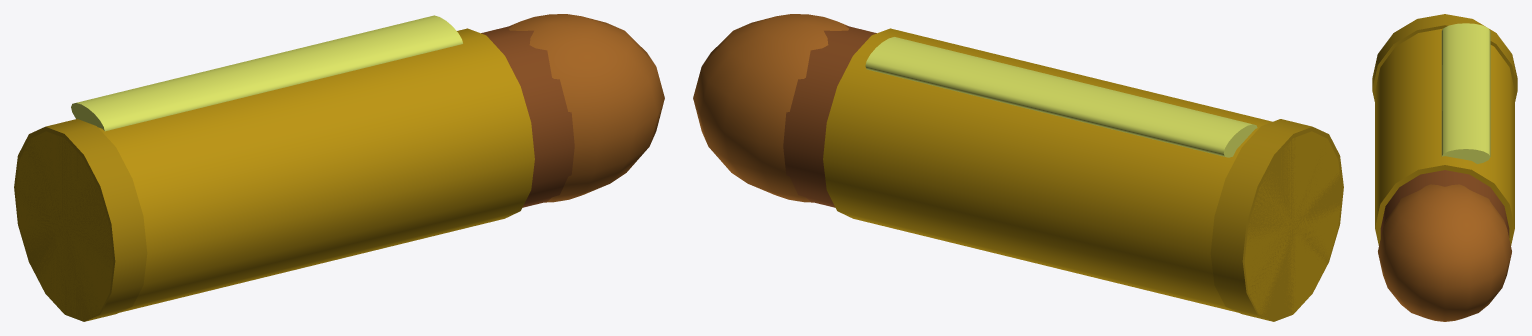
The model's file is CMU3DCartridge9mmCloud.glb.
3 renders of one model, left to right at view 1: azimuth 30°, elevation 25°; view 2: azimuth 150°, elevation 25°; view 3: azimuth 270°, elevation 25°, orthographic. The views are drawn at different scales.
Visible parts, largest first — view 1: rounded brass case, case rim, copper forward rounded cap, brass upper glint, copper neck; view 2: rounded brass case, copper forward rounded cap, brass upper glint, case rim, copper neck; view 3: rounded brass case, copper forward rounded cap, brass upper glint, case rim, copper neck.
Part boxes in pixels (left/top/right/bottom): rounded brass case: left=16, top=28, right=534, bottom=321; case rim: left=14, top=119, right=147, bottom=321; copper forward rounded cap: left=509, top=14, right=664, bottom=202; brass upper glint: left=71, top=15, right=462, bottom=131; copper neck: left=481, top=25, right=574, bottom=207; rounded brass case: left=823, top=28, right=1340, bottom=315; copper forward rounded cap: left=693, top=14, right=848, bottom=202; brass upper glint: left=865, top=37, right=1257, bottom=157; case rim: left=1210, top=119, right=1343, bottom=321; copper neck: left=783, top=25, right=876, bottom=207; rounded brass case: left=1375, top=28, right=1514, bottom=245; copper forward rounded cap: left=1378, top=184, right=1511, bottom=321; brass upper glint: left=1441, top=23, right=1490, bottom=163; case rim: left=1372, top=14, right=1517, bottom=101; copper neck: left=1380, top=170, right=1509, bottom=237.
Size of what is drawn, in the model's own units: 0.2188 by 0.066 by 0.065.
